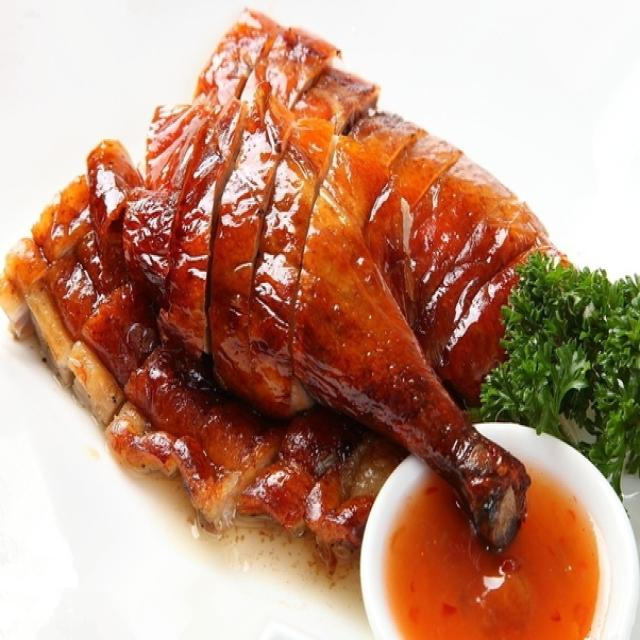烧串烤肉: (17, 23, 606, 578)
